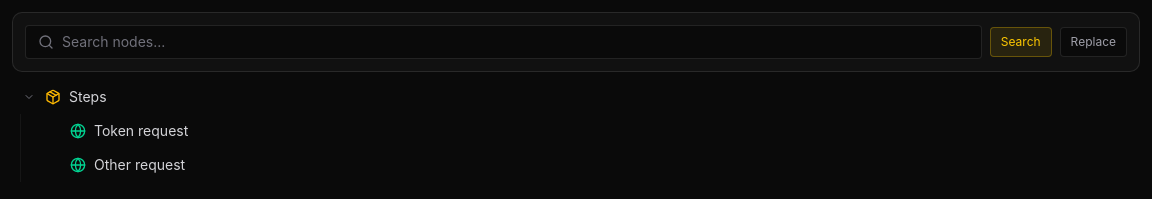
Scenario: YAMLTreeView replacement › keeps the executed search stable until Search is selected again
Type "token" into the field with placeholder "Search nodes..." at (515, 42), box [62,32,969,52]
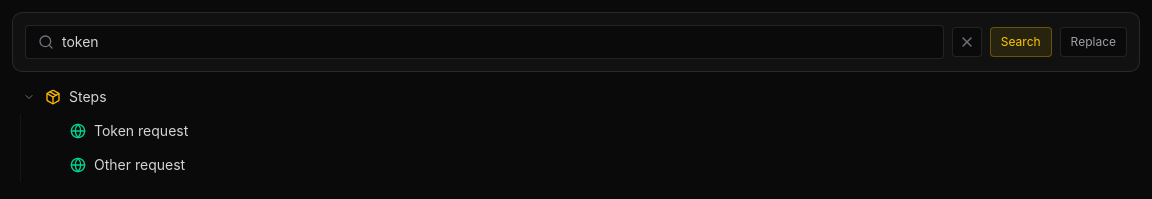
Click the button with aria-label "Search tree" at (1021, 42), box [990,27,1052,57]
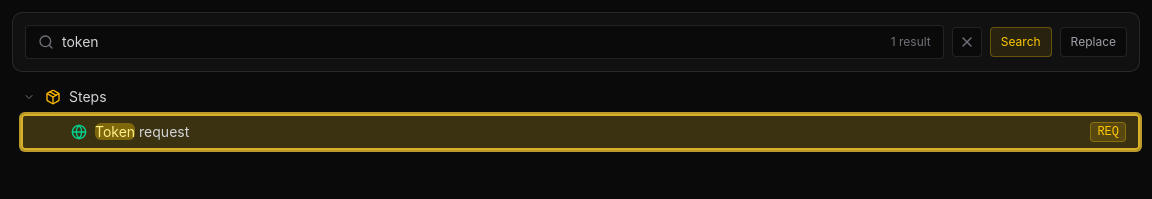
Expected: the list item "Token request req" is shown, [21,114,1140,150]
Expected: the text "Other request" is gone
Replace the text in the field with placeholder "Search nodes..." with "other" at (472, 42), box [62,32,883,52]
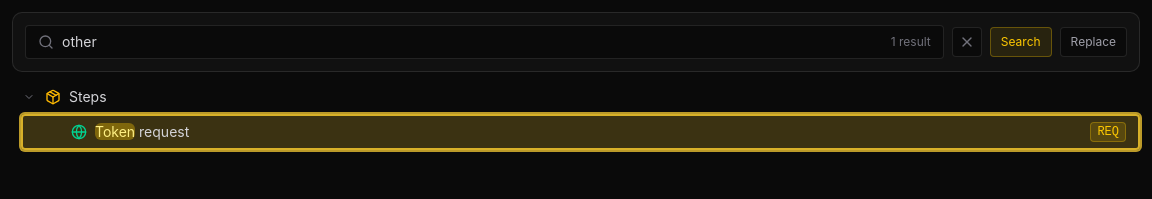
Expected: the list item "Token request req" is shown, [21,114,1140,150]
Expected: the text "Other request" is not shown
Click the button with aria-label "Search tree" at (1021, 42), box [990,27,1052,57]
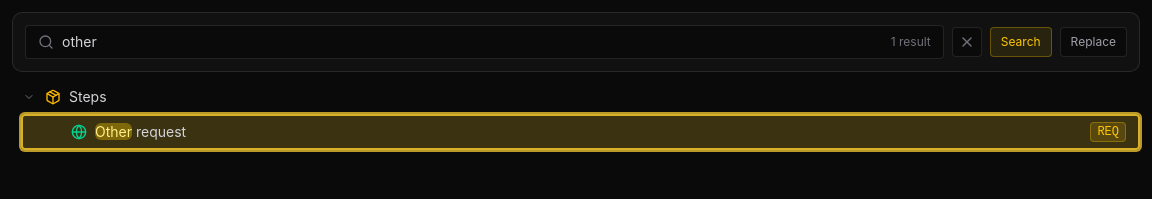
Expected: the list item "Token request" is gone
Expected: the list item "Other request req" is shown, [21,114,1140,150]
